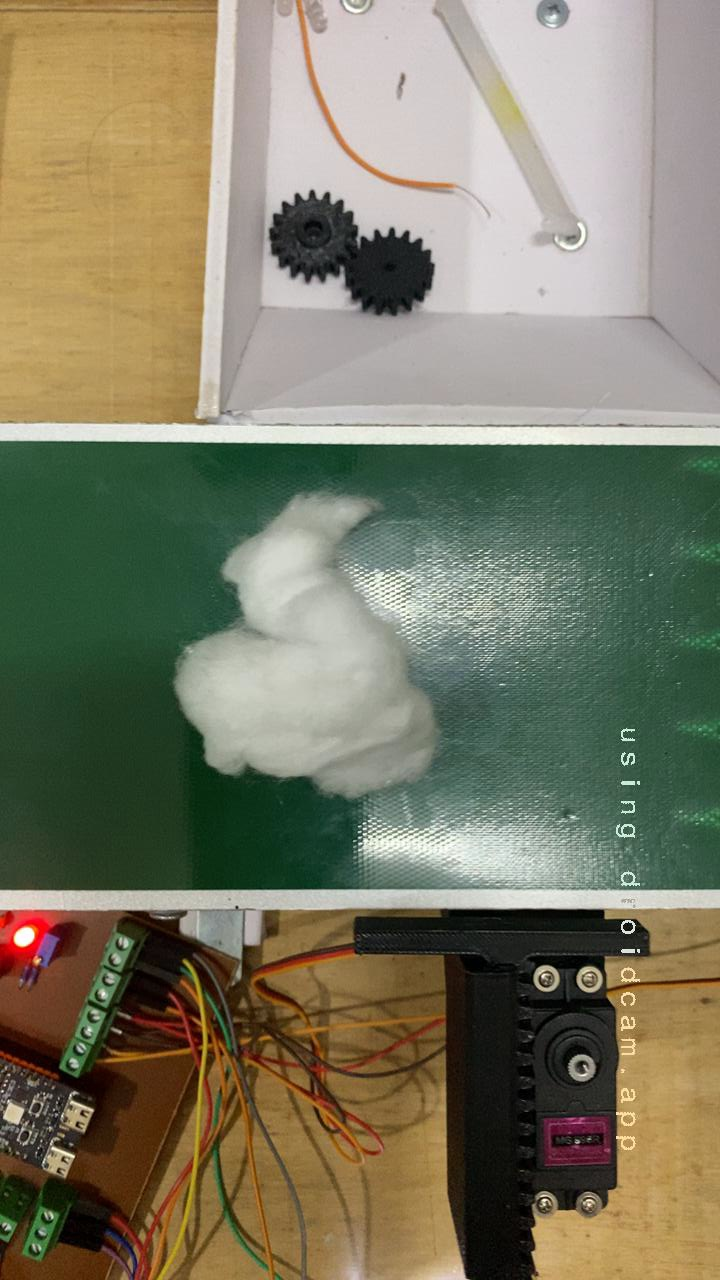cotton: (140, 470, 465, 813)
